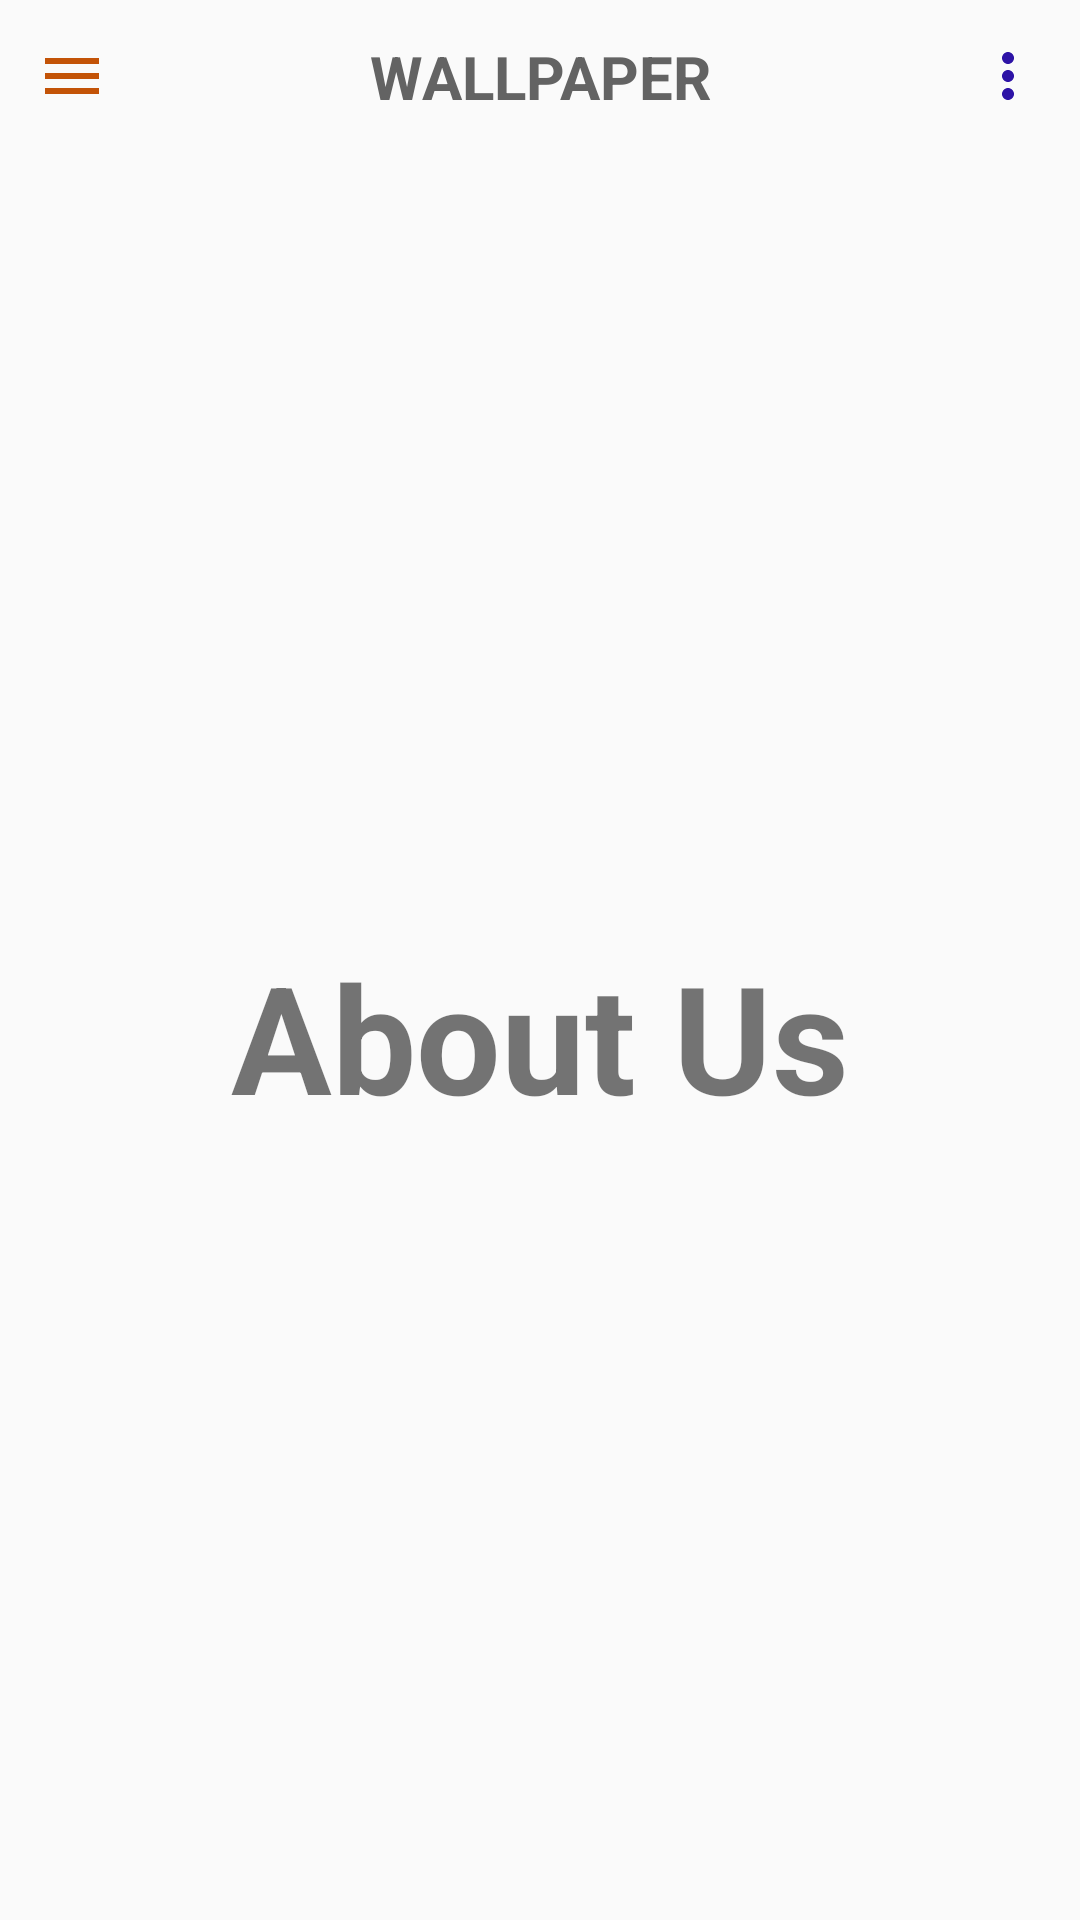

Point at icon controls on the screen. Image size 1080*1920, points as (x,y).
menu: (72,76)
more: (1008,76)
